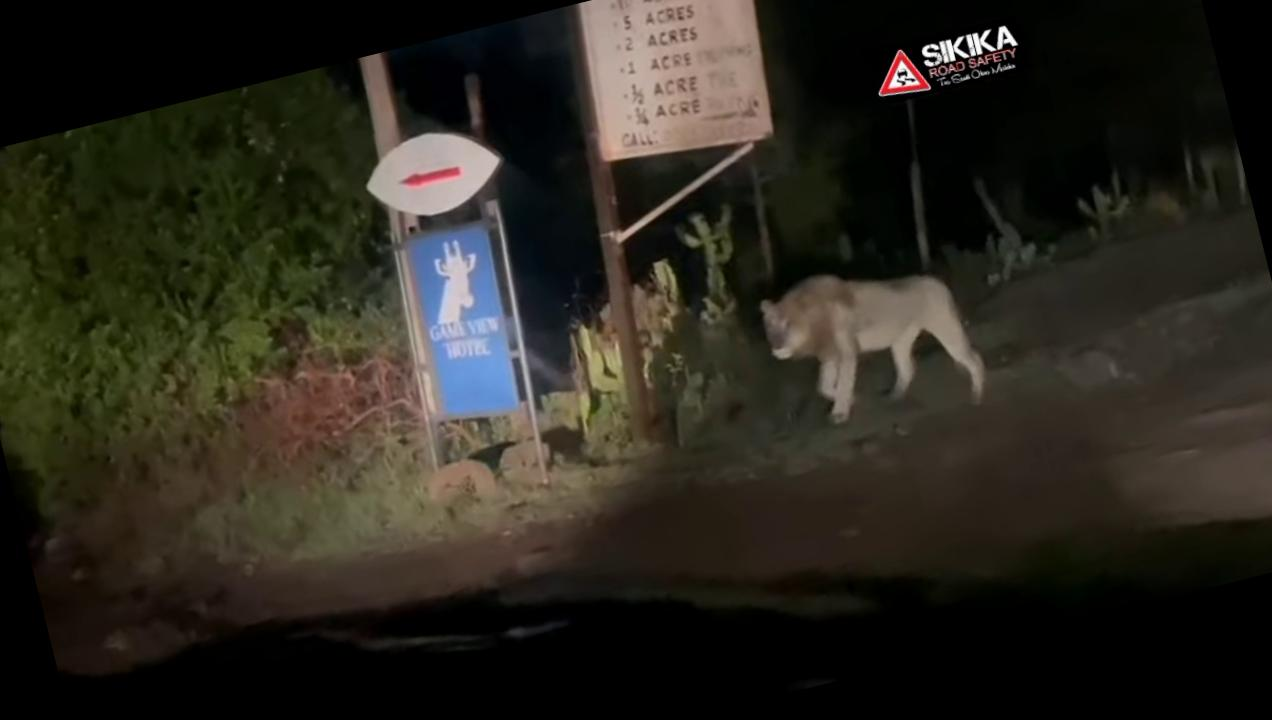lions: (726, 223, 1004, 475)
